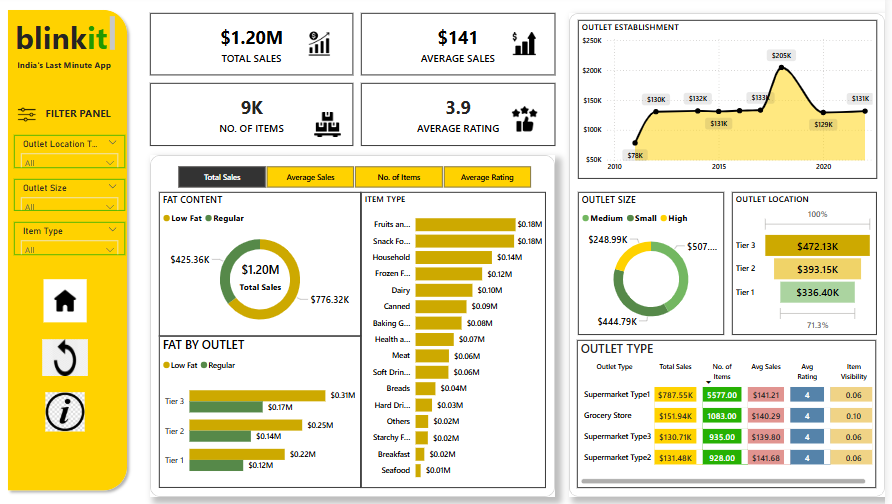

This screenshot's page, from the dashboard's own definition file:
{"tool":"powerbi","page":{"name":"Page 1","canvas":[1400,800],"ordinal":0},"visuals":[{"type":"shape","box":[9.4,12.6,206.3,776.4],"z":0},{"type":"textbox","box":[25.2,26.8,166.9,67.7],"z":1000},{"type":"textbox","box":[28.3,94.5,159.1,29.9],"z":2000},{"type":"card","fields":{"Values":["BlinkIT Grocery Data.Total Sales"]},"box":[242.5,26.8,319.7,97.6],"z":3000},{"type":"card","fields":{"Values":["BlinkIT Grocery Data.Average Rating"]},"box":[574.8,137,305.5,99.2],"z":4000},{"type":"card","fields":{"Values":["BlinkIT Grocery Data.No. of Items"]},"box":[242.5,137,319.7,99.2],"z":5000},{"type":"card","fields":{"Values":["BlinkIT Grocery Data.Average Sales"]},"box":[574.8,26.8,305.5,97.6],"z":6000},{"type":"image","box":[456.7,50.4,105.5,48.8],"z":7000},{"type":"image","box":[798.4,50.4,67.7,48.8],"z":8000},{"type":"image","box":[496.1,168.5,52,67.7],"z":9000},{"type":"image","box":[798.4,168.5,67.7,50.4],"z":10000},{"type":"shape","box":[242.5,250.4,637.8,538.6],"z":11000},{"type":"donutChart","title":"FAT CONTENT","fields":{"Y":["BlinkIT Grocery Data.Total Sales"],"Category":["BlinkIT Grocery Data.Item Fat Content"]},"box":[256.7,308.3,318.3,226.7],"z":12000},{"type":"slicer","fields":{"Values":["Metrics.Metrics"]},"box":[261.4,261.4,604.7,47.2],"z":13000},{"type":"card","fields":{"Values":["BlinkIT Grocery Data.Total Sales"]},"box":[376.4,401.6,80.3,80.3],"z":14000},{"type":"clusteredBarChart","title":"FAT BY OUTLET","fields":{"Y":["BlinkIT Grocery Data.Total Sales"],"Category":["BlinkIT Grocery Data.Outlet Location Type"],"Series":["BlinkIT Grocery Data.Item Fat Content"]},"box":[256.7,535.4,318.1,239.4],"z":15000},{"type":"clusteredBarChart","title":"ITEM TYPE","fields":{"Y":["BlinkIT Grocery Data.Total Sales"],"Category":["BlinkIT Grocery Data.Item Type"]},"box":[574.8,308.7,291.3,466.1],"z":16000},{"type":"shape","box":[902.4,26.8,497.6,762.2],"z":17000},{"type":"lineChart","title":"OUTLET ESTABLISHMENT","fields":{"Category":["BlinkIT Grocery Data.Outlet Establishment Year"],"Y":["BlinkIT Grocery Data.Total Sales"]},"box":[916.5,37.8,470.9,250.4],"z":18000},{"type":"donutChart","title":"OUTLET SIZE","fields":{"Y":["BlinkIT Grocery Data.Total Sales"],"Category":["BlinkIT Grocery Data.Outlet Size"]},"box":[916.5,308.7,229.9,225.2],"z":19000},{"type":"funnel","title":"OUTLET LOCATION","fields":{"Category":["BlinkIT Grocery Data.Outlet Location Type"],"Y":["BlinkIT Grocery Data.Total Sales"]},"box":[1159.1,308.7,228.3,225.2],"z":20000},{"type":"pivotTable","title":"OUTLET TYPE","fields":{"Rows":["BlinkIT Grocery Data.Outlet Type"],"Values":["BlinkIT Grocery Data.Total Sales","BlinkIT Grocery Data.No. of Items","BlinkIT Grocery Data.Average Sales","BlinkIT Grocery Data.Average Rating","Avg(BlinkIT Grocery Data.Item Visibility)"]},"box":[915,541.7,470.9,233.1],"z":21000},{"type":"textbox","box":[68.3,168.3,123.3,50],"z":22000},{"type":"slicer","fields":{"Values":["BlinkIT Grocery Data.Outlet Location Type"]},"box":[28.3,218.3,175,51.7],"z":23000},{"type":"slicer","fields":{"Values":["BlinkIT Grocery Data.Item Type"]},"box":[28.3,356.7,175,51.7],"z":24000},{"type":"slicer","fields":{"Values":["BlinkIT Grocery Data.Outlet Size"]},"box":[28.3,288.3,175,50],"z":25000},{"type":"image","box":[28.3,163.3,40,46.7],"z":26000},{"type":"image","box":[48.3,441.7,120,78.3],"z":28000},{"type":"image","box":[68.3,618.3,81.7,71.7],"z":29000},{"type":"image","box":[68.3,535,81.7,68.3],"z":29001}]}

Visuals, with their boxes in screenshot pixels (x1, y1, x2, y2), scaled from the page's 1400x800 canvas onto the 892x504 screenshot:
shape: <box>6,8,137,497</box>
textbox: <box>16,17,122,60</box>
textbox: <box>18,60,119,78</box>
card - BlinkIT Grocery Data.Total Sales: <box>155,17,358,78</box>
card - BlinkIT Grocery Data.Average Rating: <box>366,86,561,149</box>
card - BlinkIT Grocery Data.No. of Items: <box>155,86,358,149</box>
card - BlinkIT Grocery Data.Average Sales: <box>366,17,561,78</box>
image: <box>291,32,358,62</box>
image: <box>509,32,552,62</box>
image: <box>316,106,349,149</box>
image: <box>509,106,552,138</box>
shape: <box>155,158,561,497</box>
"FAT CONTENT" donutChart: <box>164,194,366,337</box>
slicer - Metrics.Metrics: <box>167,165,552,194</box>
card - BlinkIT Grocery Data.Total Sales: <box>240,253,291,304</box>
"FAT BY OUTLET" clusteredBarChart: <box>164,337,366,488</box>
"ITEM TYPE" clusteredBarChart: <box>366,194,552,488</box>
shape: <box>575,17,891,497</box>
"OUTLET ESTABLISHMENT" lineChart: <box>584,24,884,182</box>
"OUTLET SIZE" donutChart: <box>584,194,730,336</box>
"OUTLET LOCATION" funnel: <box>739,194,884,336</box>
"OUTLET TYPE" pivotTable: <box>583,341,883,488</box>
textbox: <box>44,106,122,138</box>
slicer - BlinkIT Grocery Data.Outlet Location Type: <box>18,138,130,170</box>
slicer - BlinkIT Grocery Data.Item Type: <box>18,225,130,257</box>
slicer - BlinkIT Grocery Data.Outlet Size: <box>18,182,130,213</box>
image: <box>18,103,44,132</box>
image: <box>31,278,107,328</box>
image: <box>44,390,96,435</box>
image: <box>44,337,96,380</box>
